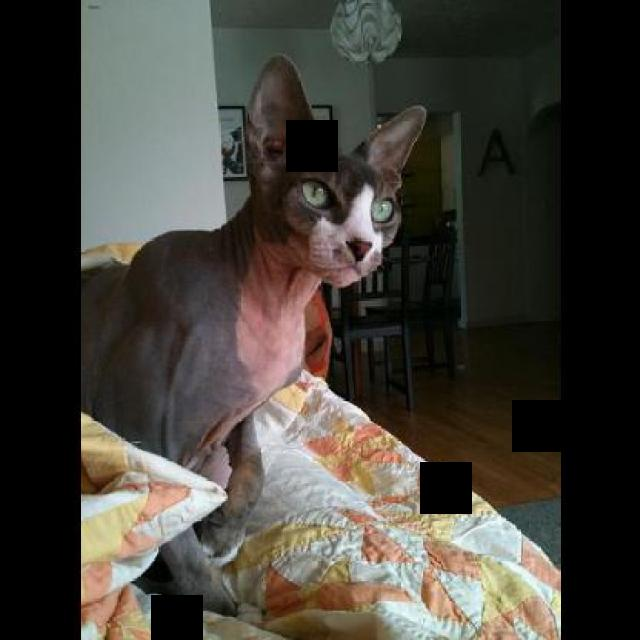unauthorized: (79, 52, 428, 616)
